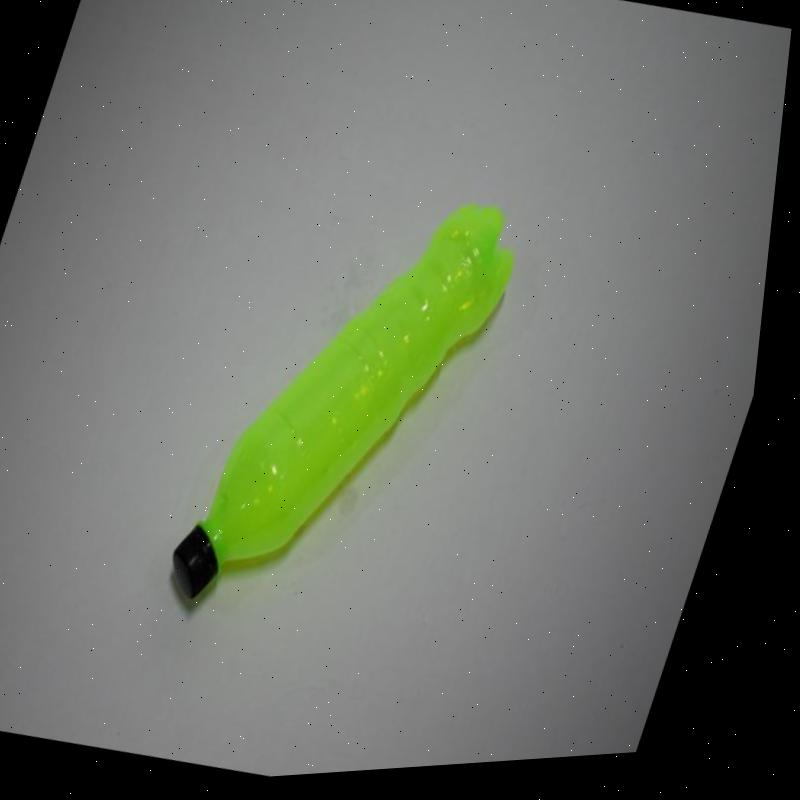botella: (168, 163, 544, 652)
